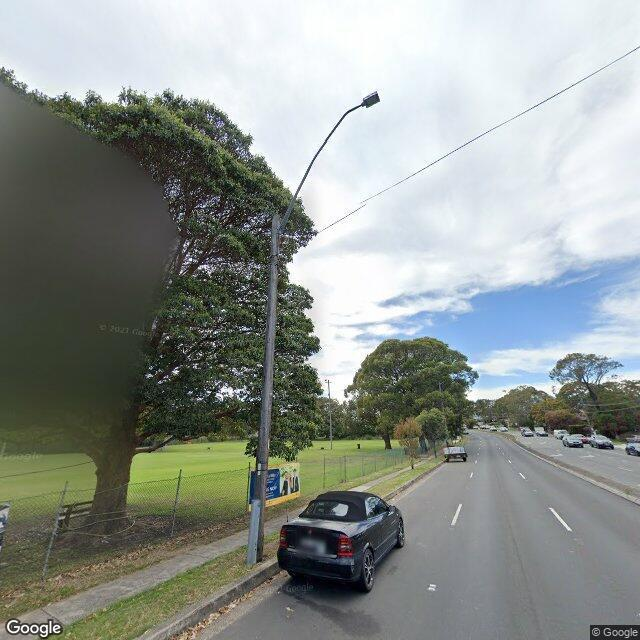streetlight: (279, 91, 381, 234)
timber-pole: (246, 213, 281, 562)
